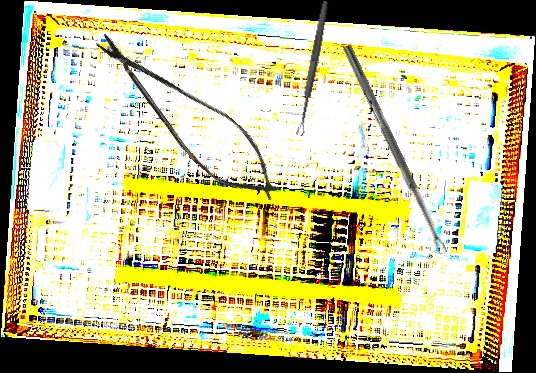Micro Scissor: (80, 19, 294, 216)
Surgical Spoon: (341, 44, 448, 256), (295, 0, 330, 137)
